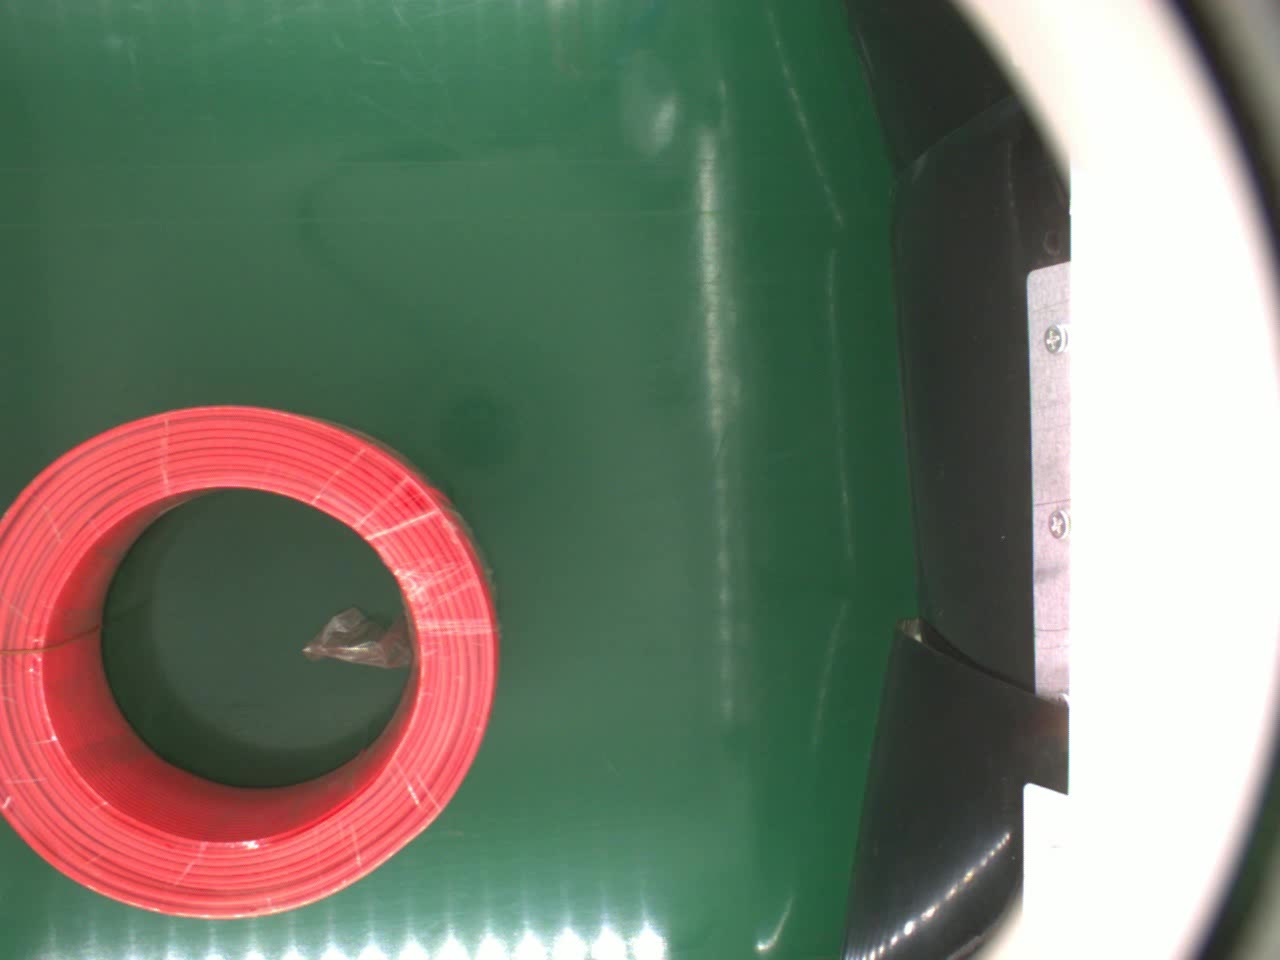red: (0, 398, 506, 920)
